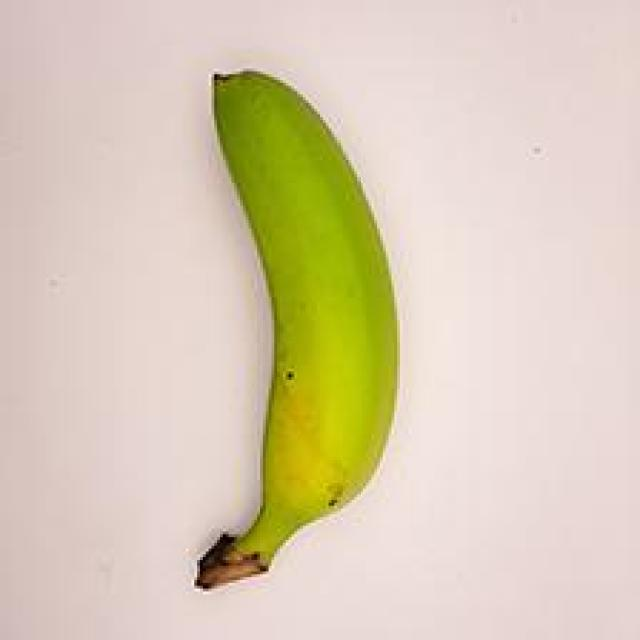Unripe: (122, 31, 463, 602)
